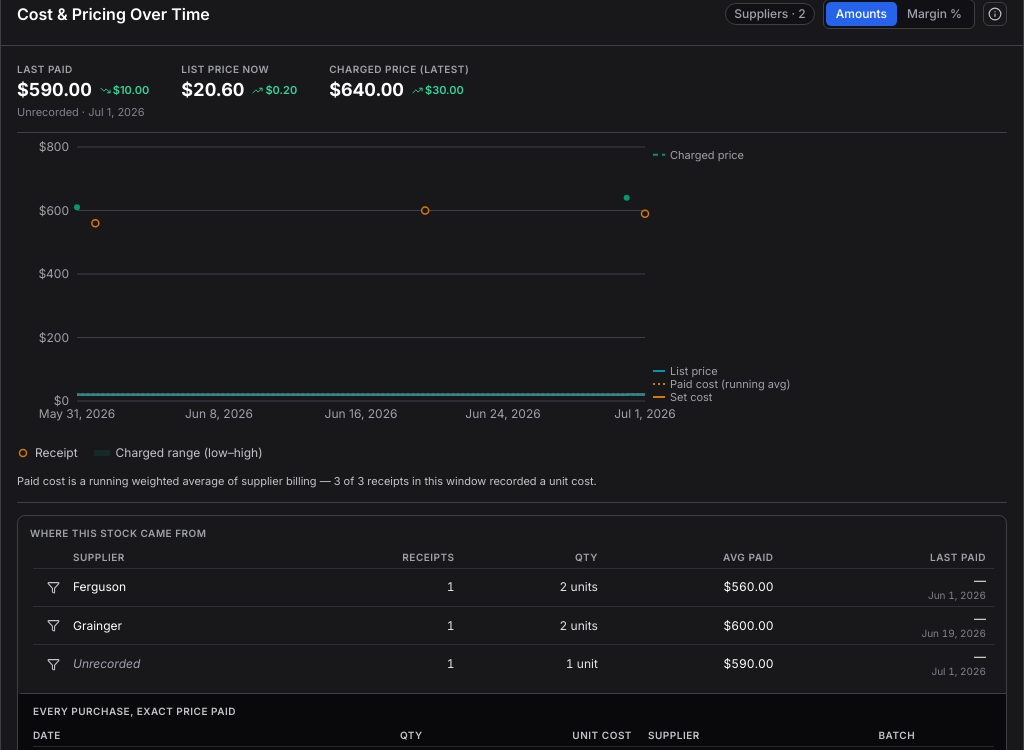
Test: CostPriceTrendChart › supplier origin › clicking anywhere on a vendor's row filters too, not just its button
The width and height of the screenshot is (1024, 750).
Click the text "Ferguson" at (100, 588), box [73,580,126,596]
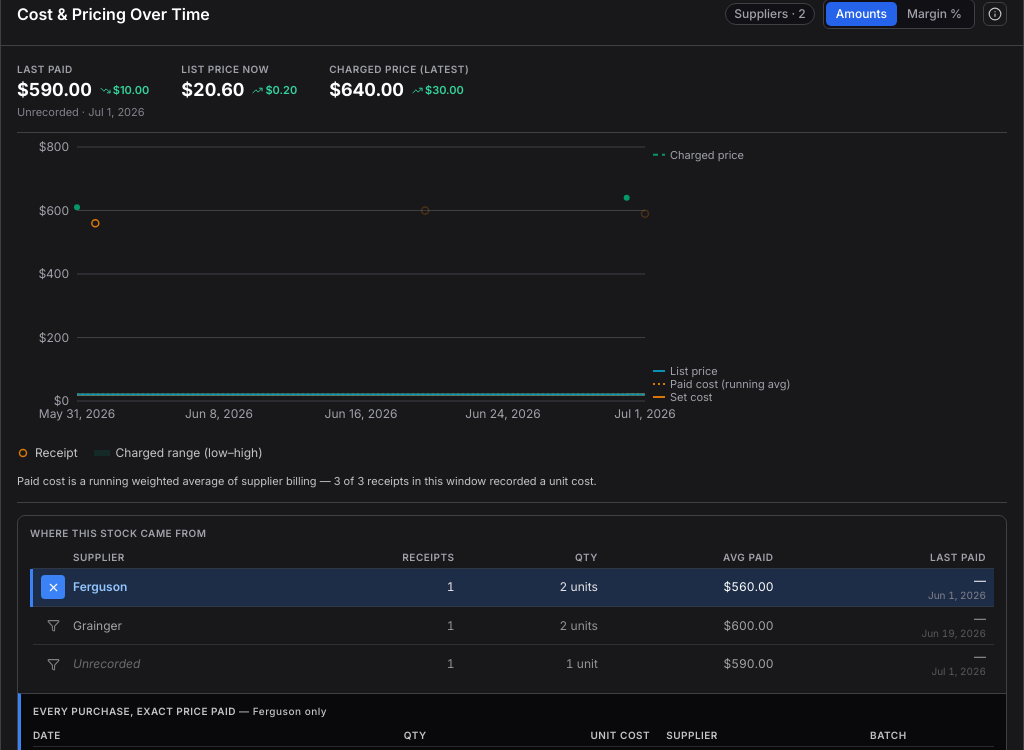
// Clicking the row again clears it — same toggle the button offers.
Click the text "Ferguson" at (100, 588), box [73,580,127,596]
(page scrolled)
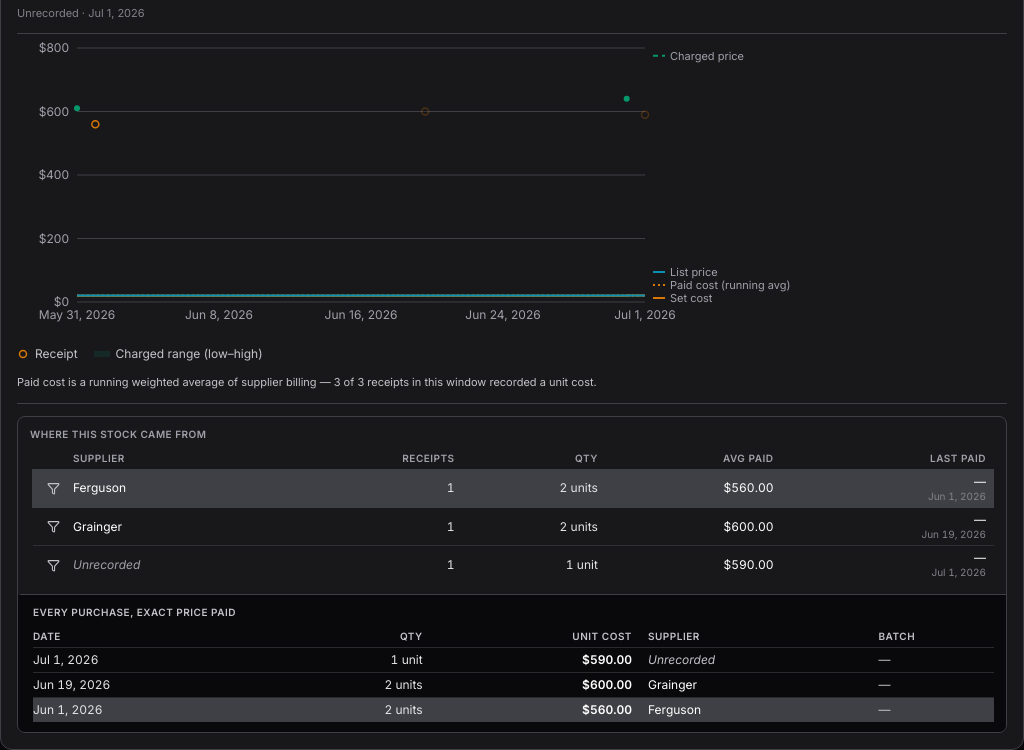
Expected: the text "Grainger" below "Batch" is shown, [648,677,697,692]
